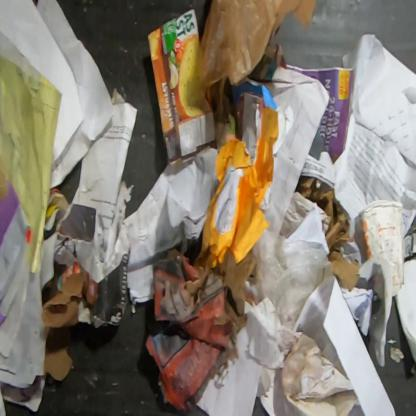cardboard: (145, 247, 257, 416), (148, 8, 216, 170), (295, 176, 360, 292), (56, 247, 132, 329), (358, 199, 405, 297), (372, 272, 385, 300)
soft_plastic: (199, 0, 317, 89), (245, 229, 333, 331)
